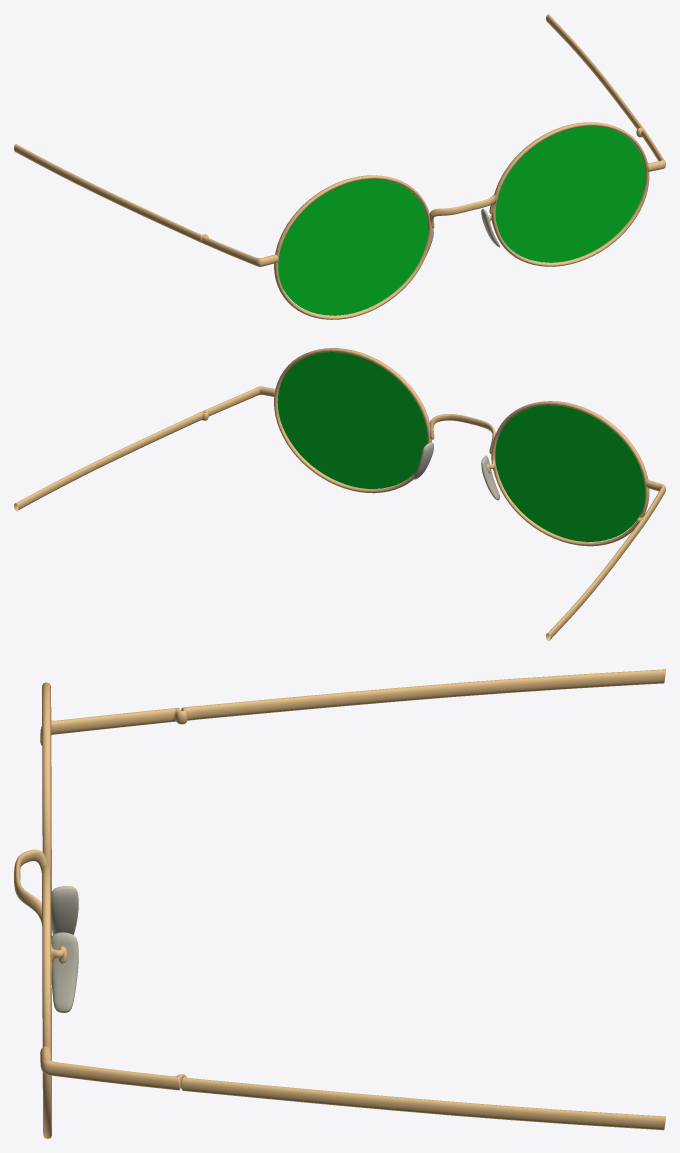
File: Green_round_sunglasses.glb
The picture shows the model from 3 angles, top to bottom: view 1: azimuth 30°, elevation 25°; view 2: azimuth 150°, elevation 25°; view 3: azimuth 270°, elevation 25°; orthographic projection. The views are drawn at different scales.
Visible parts, largest first — view 1: Cylinder.005_GreenGlasses_0, Cube.005_Gold_0, Cylinder.004_Gold_0; view 2: Cylinder.005_GreenGlasses_0, Cube.005_Gold_0, Cylinder.004_Gold_0, Cylinder.006_WhitePlastic_0; view 3: Cube.005_Gold_0, Cylinder.004_Gold_0, Cylinder.006_WhitePlastic_0.
Part boxes in pixels (x1=…): Cylinder.005_GreenGlasses_0: x1=278, y1=126, x2=645, y2=315; Cube.005_Gold_0: x1=14, y1=14, x2=665, y2=266; Cylinder.004_Gold_0: x1=274, y1=122, x2=649, y2=319; Cylinder.005_GreenGlasses_0: x1=277, y1=352, x2=645, y2=541; Cube.005_Gold_0: x1=14, y1=386, x2=665, y2=640; Cylinder.004_Gold_0: x1=274, y1=348, x2=649, y2=546; Cylinder.006_WhitePlastic_0: x1=413, y1=442, x2=499, y2=500; Cube.005_Gold_0: x1=14, y1=669, x2=665, y2=1130; Cylinder.004_Gold_0: x1=42, y1=682, x2=67, y2=1138; Cylinder.006_WhitePlastic_0: x1=51, y1=886, x2=78, y2=1012.
Bounding box in the file's own units: 1.46 × 0.362 × 0.8914.
